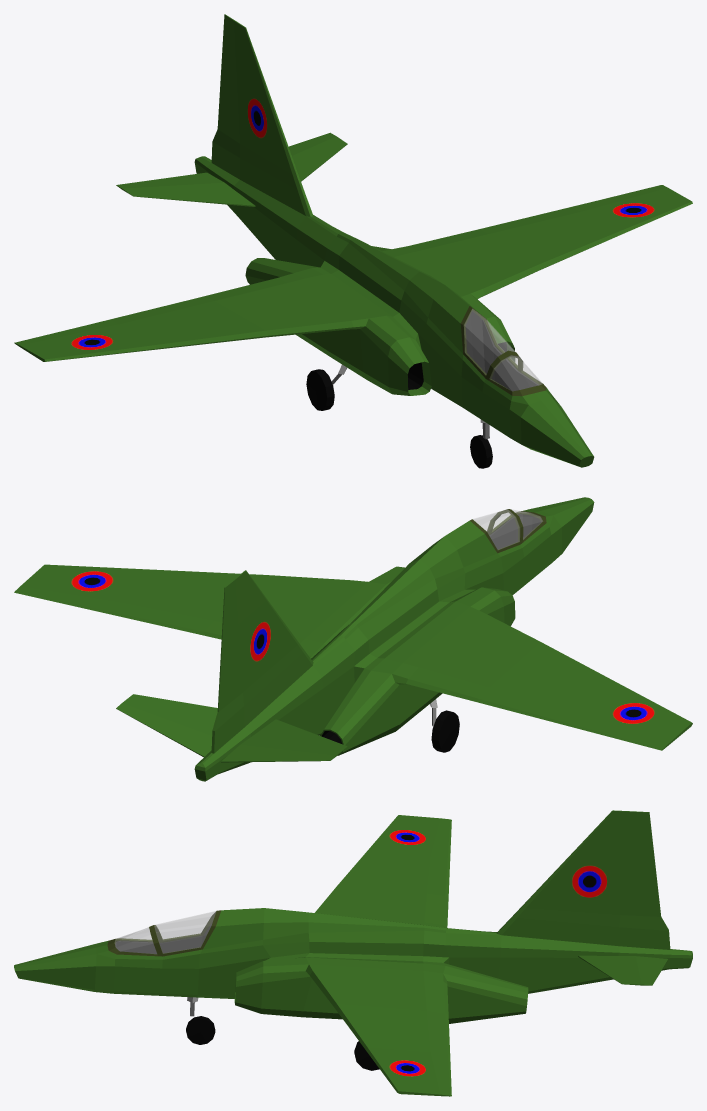
The picture shows the model from 3 angles, top to bottom: view 1: azimuth 30°, elevation 25°; view 2: azimuth 150°, elevation 25°; view 3: azimuth 270°, elevation 25°; orthographic projection. The views are drawn at different scales.
Parts seen in each view (by area): view 1: Circle.048, Circle.055, Circle.054, Circle.049, Landing gear_RR.003, Circle.050, Circle.052, Landing gear_F.003, Circle.058; view 2: Circle.048, Circle.061, Circle.049, Circle.052, Circle.058, Circle.055, Circle.051, Circle.050, Landing gear_RR.003, Circle.053, Circle.059, Circle.054; view 3: Circle.048, Circle.049, Circle.055, Circle.054, Circle.058, Circle.052, Landing gear_F.003, Circle.060, Circle.051, Circle.061, Circle.059, Circle.053.
Boxes of the visible parts, box(x1,y1,x2,y2) form: Circle.048: box(14, 14, 692, 467); Circle.055: box(460, 306, 519, 379); Circle.054: box(487, 353, 546, 396); Circle.049: box(217, 59, 239, 143); Landing gear_RR.003: box(306, 364, 346, 410); Circle.050: box(116, 173, 221, 189); Circle.052: box(110, 296, 214, 324); Landing gear_F.003: box(470, 419, 492, 468); Circle.058: box(479, 207, 579, 233); Circle.048: box(14, 497, 692, 781); Circle.061: box(116, 703, 212, 756); Circle.049: box(217, 624, 242, 711); Circle.052: box(477, 688, 579, 726); Circle.058: box(108, 602, 214, 635); Circle.055: box(470, 509, 521, 553); Circle.051: box(406, 667, 488, 701); Circle.050: box(225, 744, 336, 762); Landing gear_RR.003: box(430, 699, 459, 752); Circle.053: box(569, 714, 656, 747); Circle.059: box(25, 588, 118, 613); Circle.054: box(489, 509, 546, 543); Circle.048: box(14, 810, 692, 1096); Circle.049: box(620, 852, 661, 916); Circle.055: box(151, 910, 221, 956); Circle.054: box(107, 926, 160, 956); Circle.058: box(427, 1010, 450, 1055); Circle.052: box(427, 856, 450, 897); Landing gear_F.003: box(186, 997, 215, 1044); Circle.060: box(424, 978, 448, 1014); Circle.051: box(424, 893, 448, 927); Circle.061: box(636, 957, 667, 985); Circle.059: box(431, 1052, 451, 1090); Circle.053: box(431, 823, 451, 858).
Bounding box in the file's own units: 1138 × 448 × 1182.
